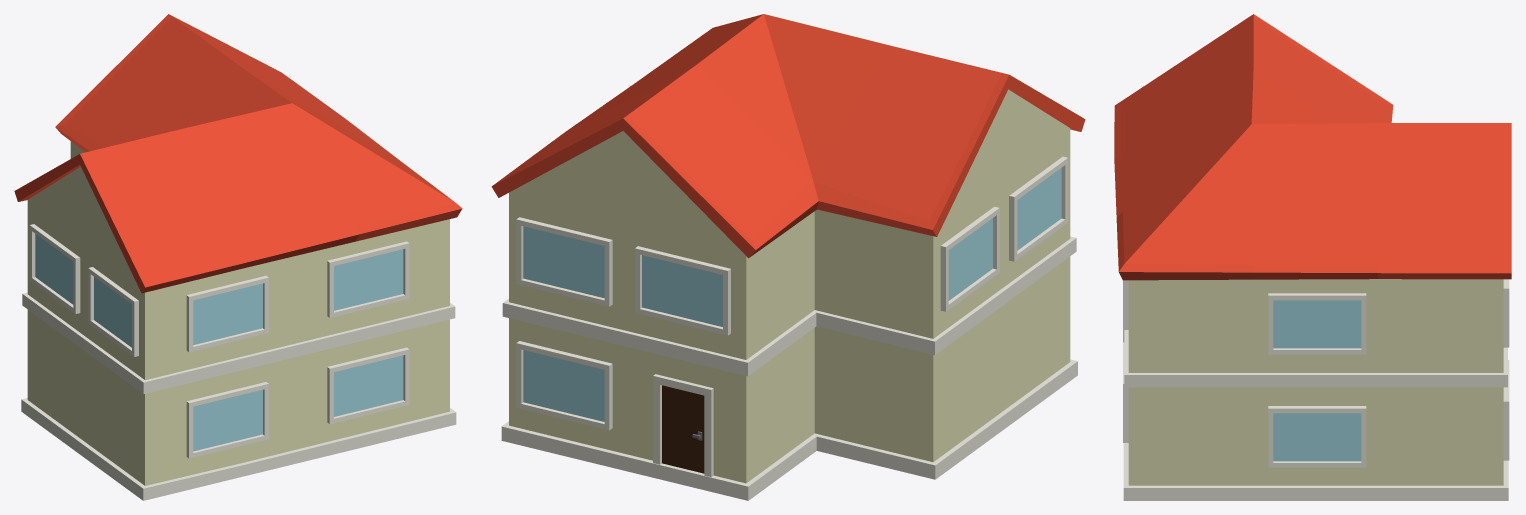
3 renders of one model, left to right at view 1: azimuth 30°, elevation 25°; view 2: azimuth 150°, elevation 25°; view 3: azimuth 270°, elevation 25°, orthographic. The views are drawn at different scales.
Visible parts, largest first — view 1: L-2; view 2: L-2; view 3: L-2.
Boxes of the visible parts, <box> form: L-2: <box>14,14,462,500</box>; L-2: <box>491,14,1085,500</box>; L-2: <box>1114,14,1511,500</box>.
Bounding box in the file's own units: 10.09 × 9.05 × 10.1.
